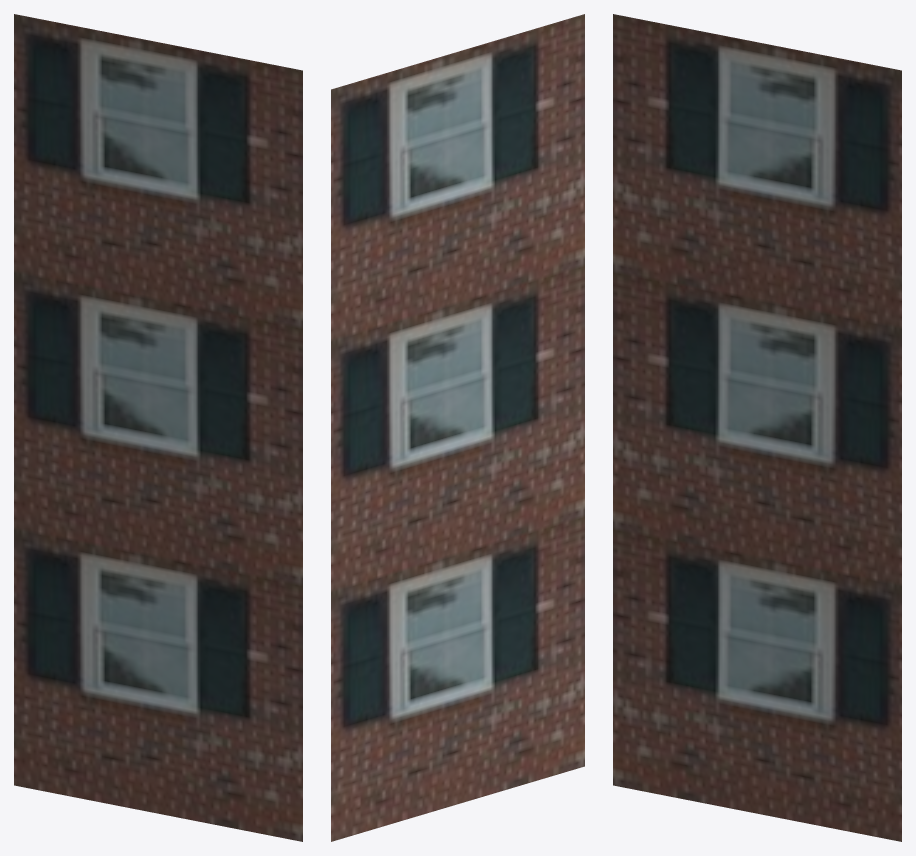
The model's file is ResTex__4081.fbx.
3 views of the same model, side by side, from view 1: azimuth 90°, elevation 25°; view 2: azimuth 150°, elevation 25°; view 3: azimuth 270°, elevation 25° (orthographic). The views are drawn at different scales.
Parts seen in each view (by area): view 1: CityEngineMaterial_14_m; view 2: CityEngineMaterial_14_m; view 3: CityEngineMaterial_14_m.
Boxes of the visible parts, x1,y1,x2,y2 form: CityEngineMaterial_14_m: (14, 14, 302, 841); CityEngineMaterial_14_m: (331, 14, 584, 841); CityEngineMaterial_14_m: (613, 14, 901, 841).
Size of the model in its own units: 1.41 by 9 by 3.05.
1 material, 1 textured.
